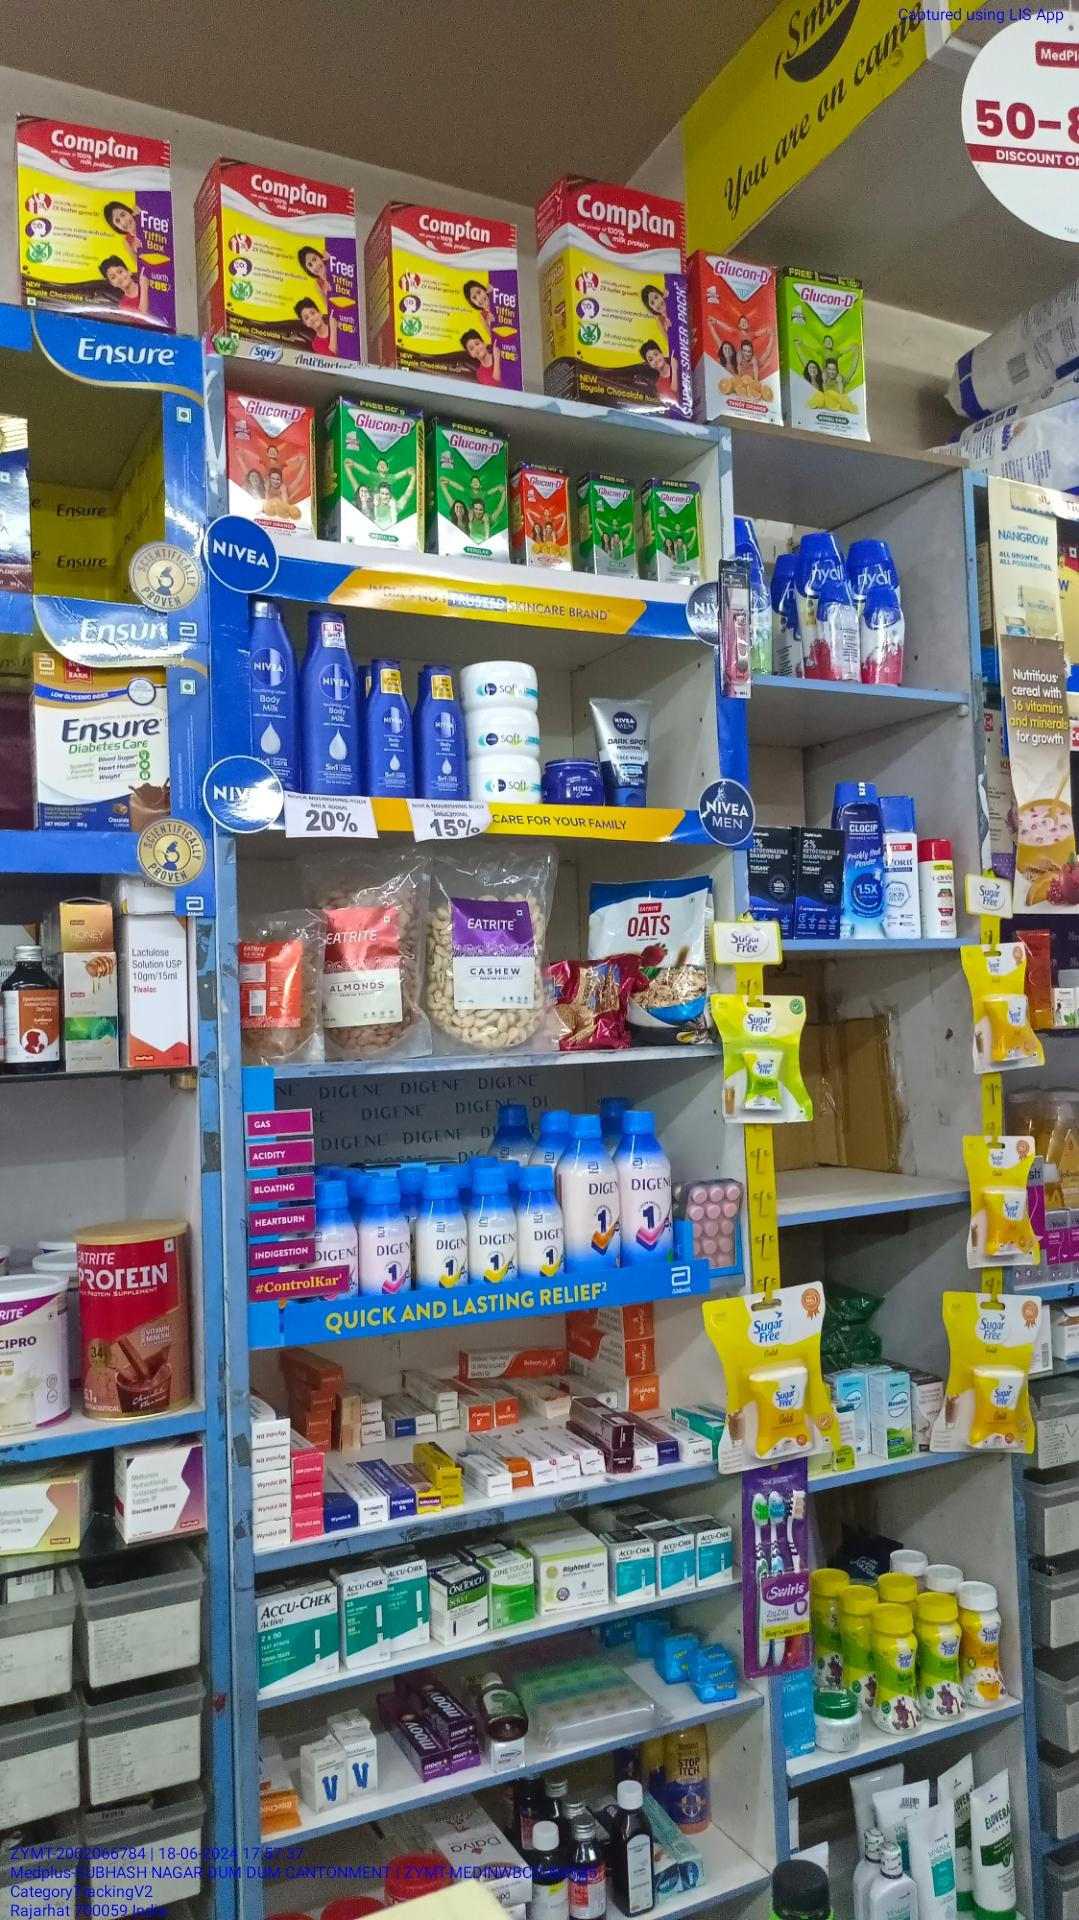COMPLAN_CHOCOLATE_1_KG_PACK: (572, 173, 695, 415)
COMPLAN_CHOCOLATE_500_GMS_PACK: (17, 124, 173, 319), (220, 161, 355, 332), (392, 202, 522, 376)
